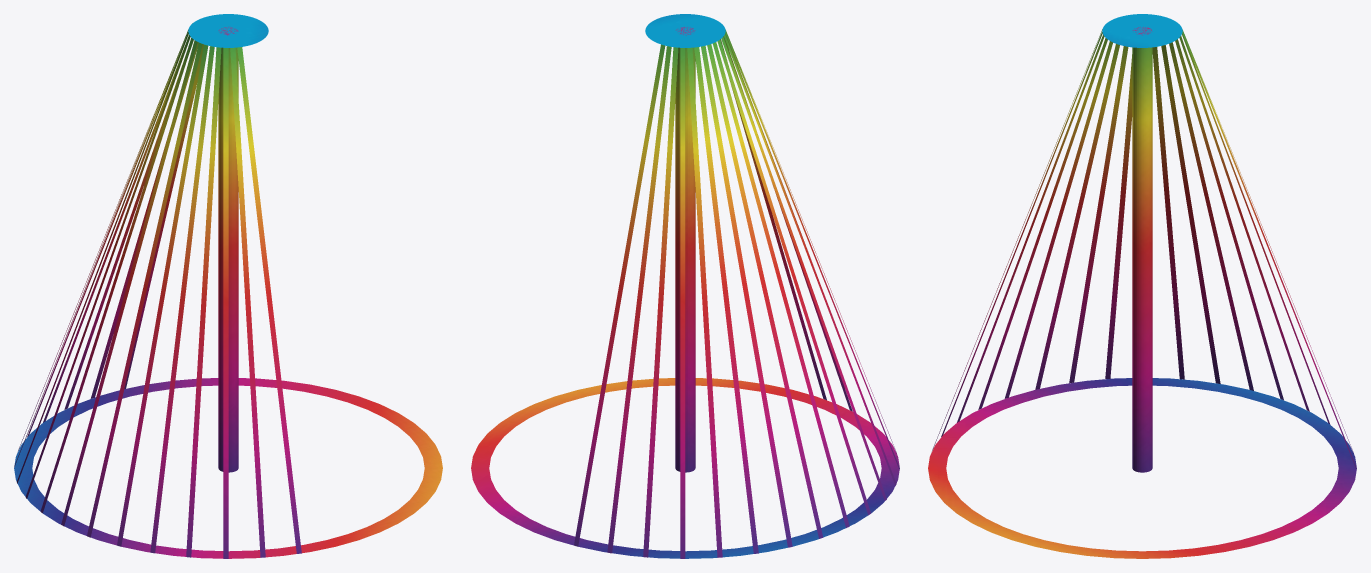
Rendered from Mega Tree.obj.
The picture shows the model from 3 angles, left to right: view 1: azimuth 30°, elevation 25°; view 2: azimuth 150°, elevation 25°; view 3: azimuth 270°, elevation 25°; orthographic projection.
Visible parts, largest first — view 1: Torus.001; view 2: Torus.001; view 3: Torus.001.
Boxes of the visible parts, x1=… form: Torus.001: x1=14, y1=14, x2=442, y2=558; Torus.001: x1=471, y1=14, x2=899, y2=558; Torus.001: x1=928, y1=14, x2=1356, y2=558.
Size of the model in its own units: 128 by 144 by 128.
1 material, 1 textured.
